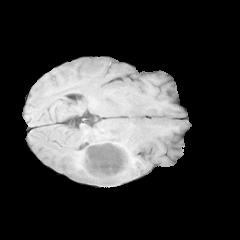glioma: (76, 140, 132, 183)
